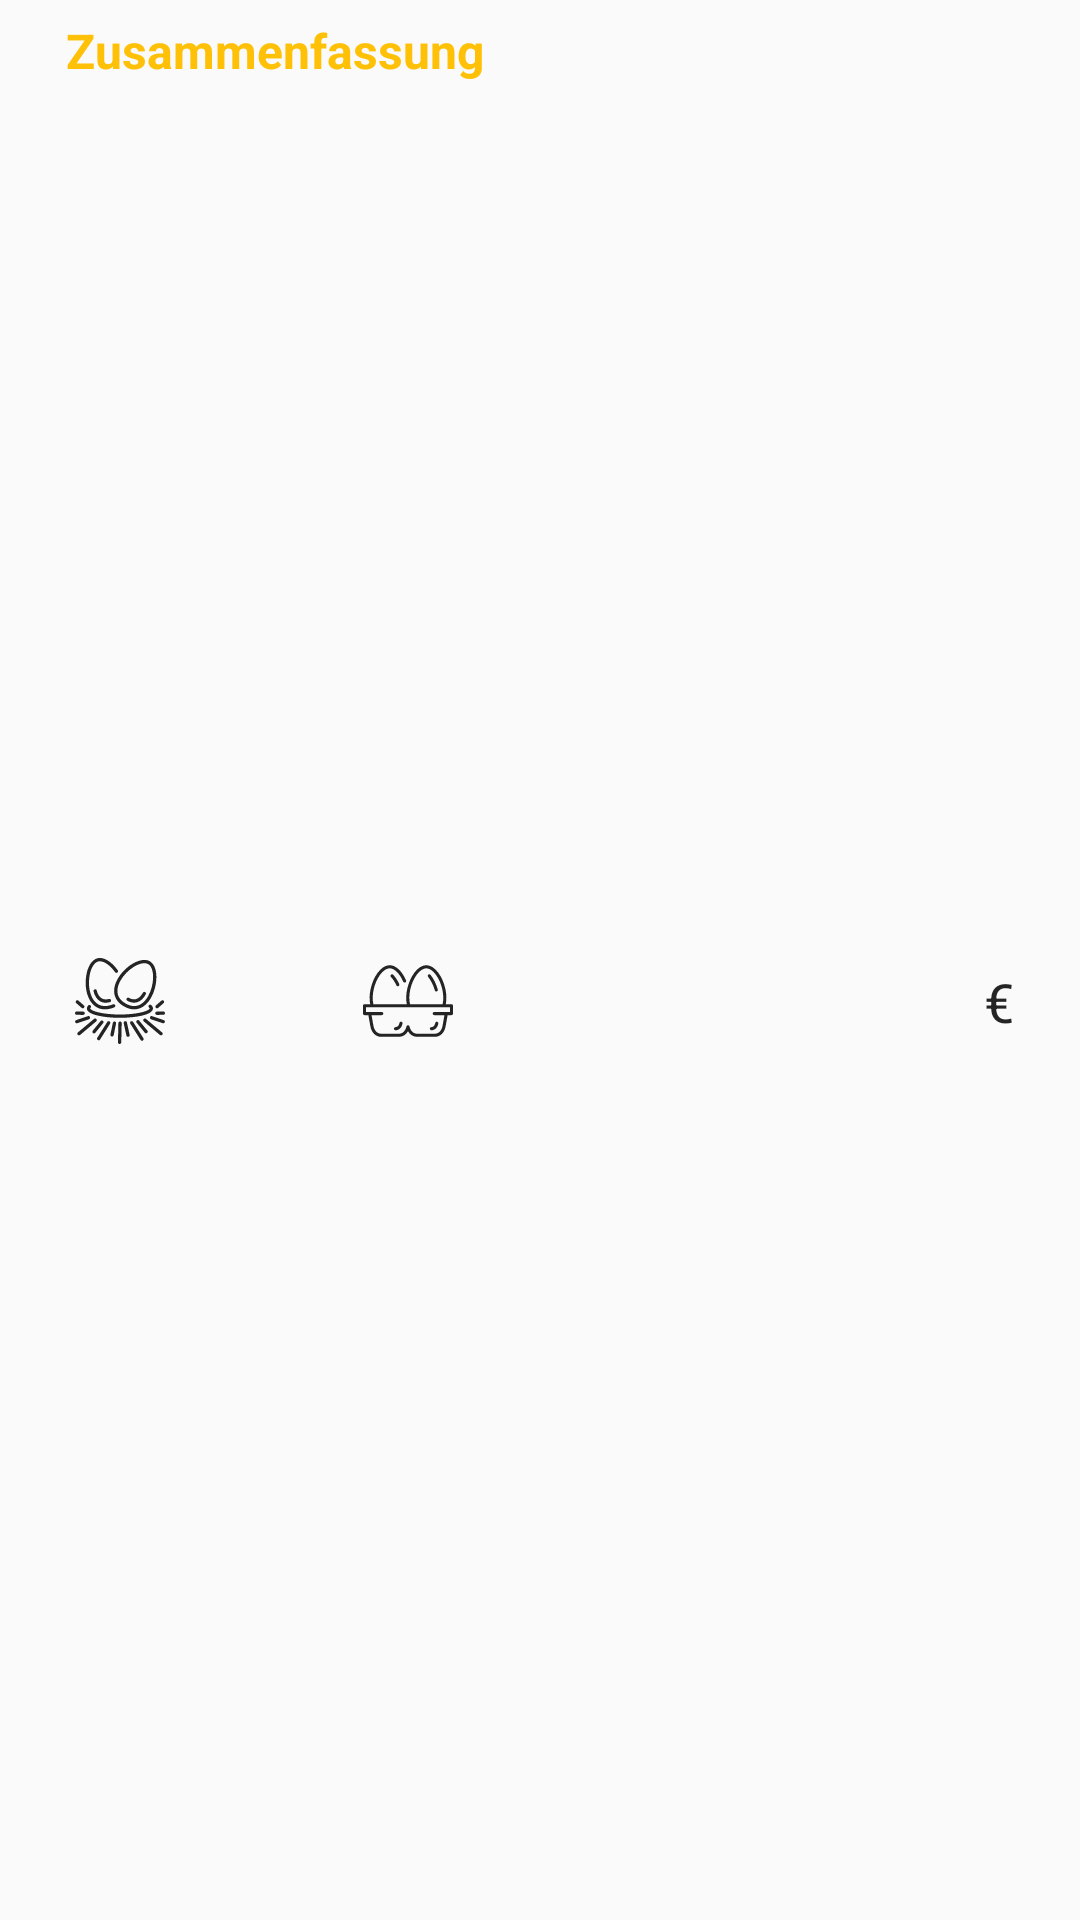

Icon click points for this 1080*1920 phone screenshot, format (x=x, y=y):
egg nest: (x=120, y=1001)
eggs: (x=408, y=1001)
